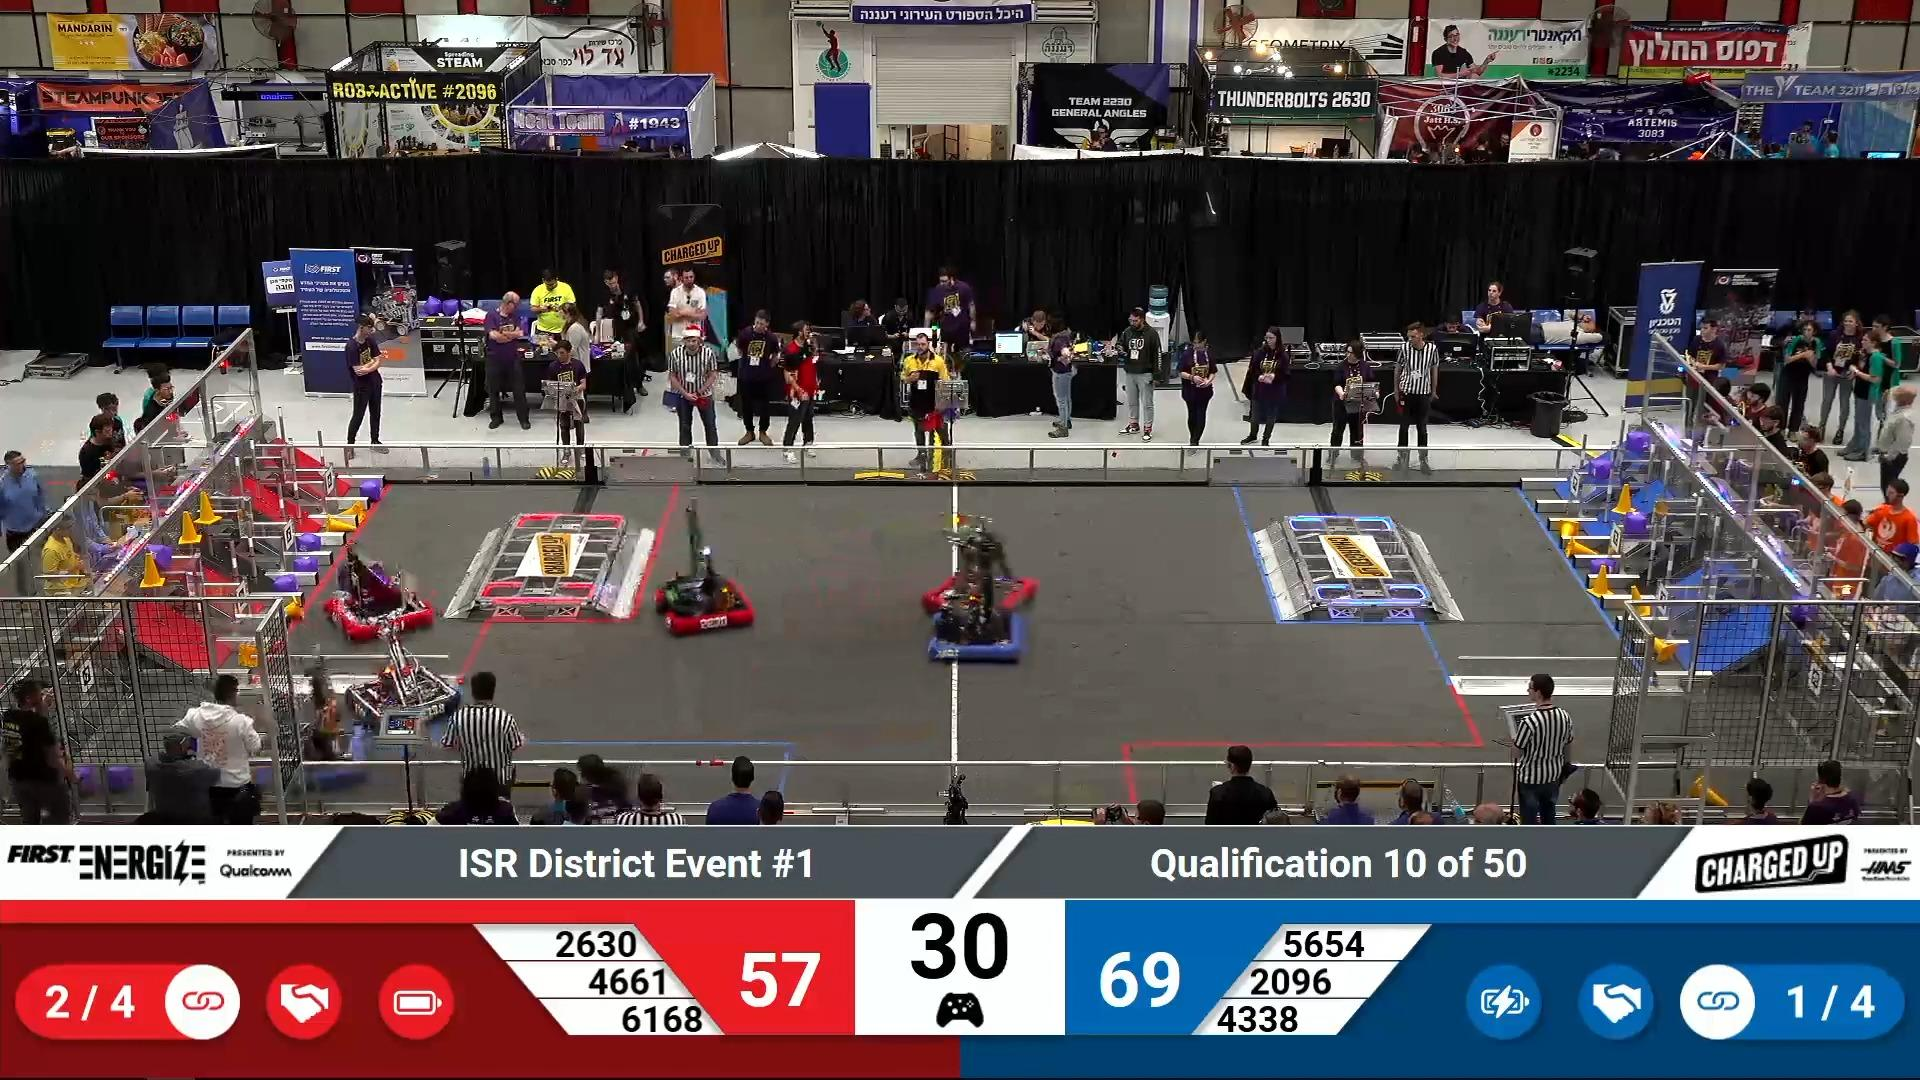robot: (318, 555, 440, 647), (650, 546, 757, 638), (927, 537, 1042, 622), (345, 653, 459, 736), (266, 703, 365, 794), (919, 600, 1026, 673)
